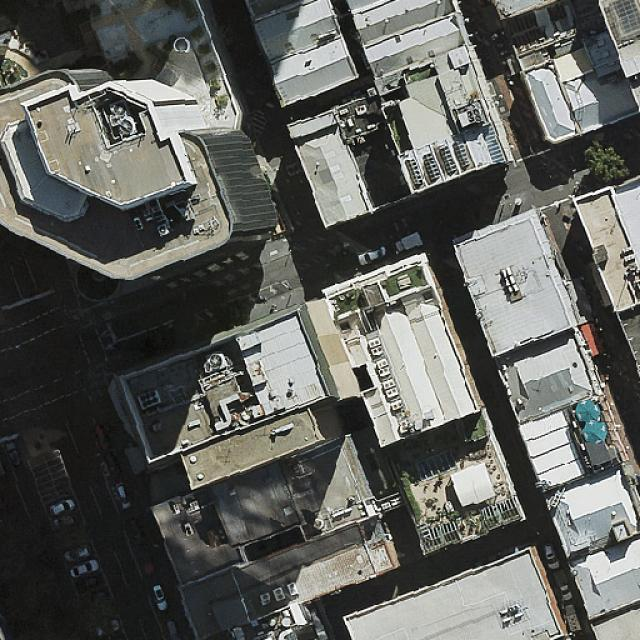Bike-Symbols: (99, 329, 113, 341)
